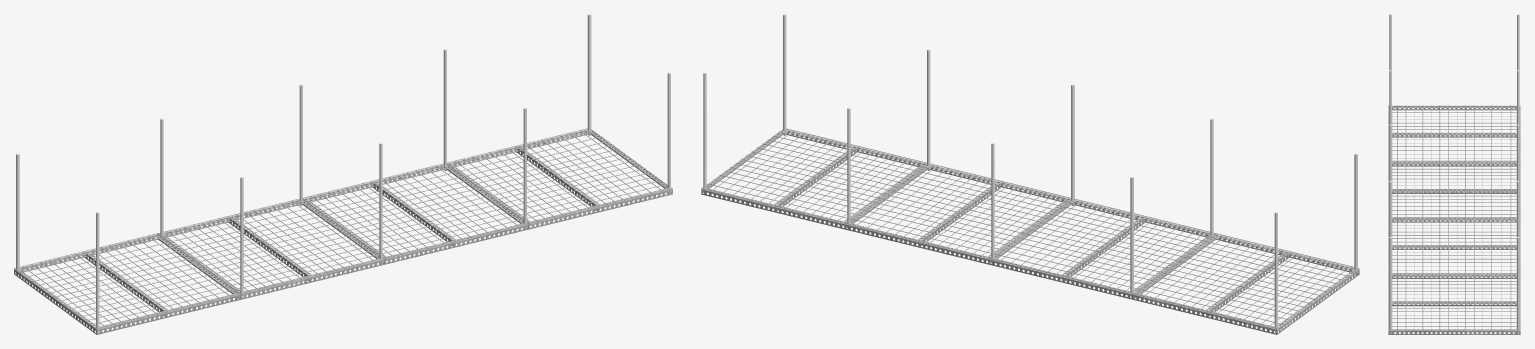
3 renders of one model, left to right at view 1: azimuth 30°, elevation 25°; view 2: azimuth 150°, elevation 25°; view 3: azimuth 270°, elevation 25°, orthographic. The views are drawn at different scales.
Visible parts, largest first — view 1: Grill004, Rods004; view 2: Grill004, Rods004; view 3: Grill004, Rods004.
Part boxes in pixels (x1=…): Grill004: x1=14, y1=128, x2=672, y2=334; Rods004: x1=16, y1=14, x2=670, y2=333; Grill004: x1=701, y1=128, x2=1359, y2=334; Rods004: x1=703, y1=14, x2=1357, y2=333; Grill004: x1=1388, y1=105, x2=1520, y2=334; Rods004: x1=1389, y1=14, x2=1519, y2=333.
Size of the model in its own units: 124 by 24.98 by 30.94.
Materials: 2 (2 with a texture image).
